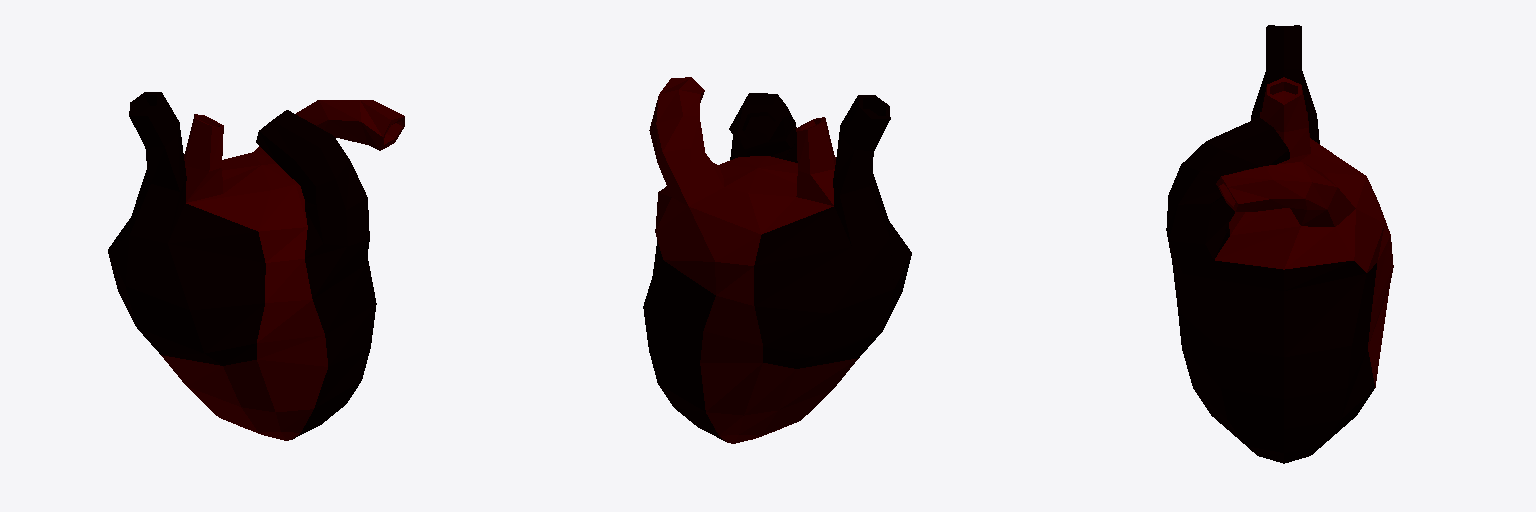
File: Heart.obj
The picture shows the model from 3 angles: view 1: azimuth 30°, elevation 25°; view 2: azimuth 150°, elevation 25°; view 3: azimuth 270°, elevation 25°; orthographic projection.
Parts seen in each view (by area): view 1: pSphere1; view 2: pSphere1; view 3: pSphere1.
Boxes of the visible parts, <box> form: pSphere1: <box>108,92,404,440</box>; pSphere1: <box>643,77,911,443</box>; pSphere1: <box>1166,25,1393,463</box>.
Bounding box in the file's own units: 30.82 × 42.5 × 23.62.